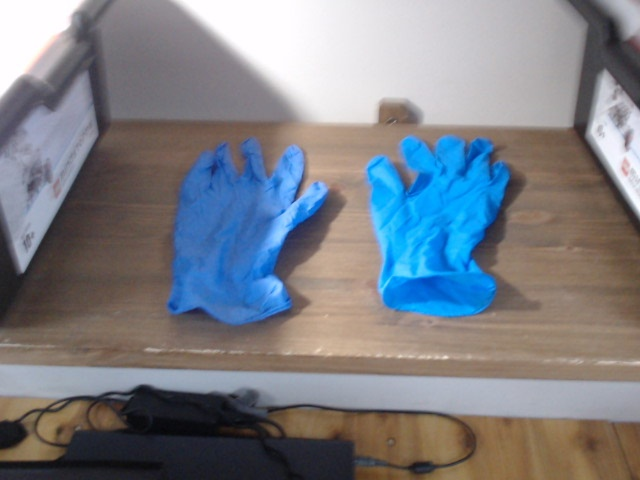medical_glove: (165, 136, 329, 319), (366, 133, 511, 315)
